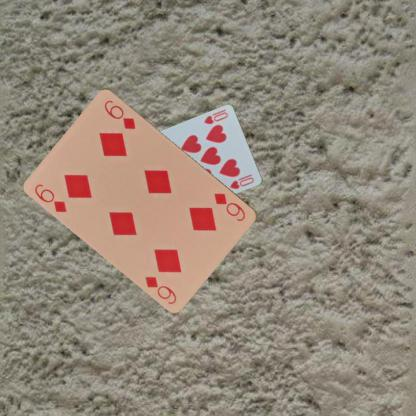10h: (201, 110, 229, 126)
6d: (32, 181, 68, 214), (212, 190, 247, 223)
